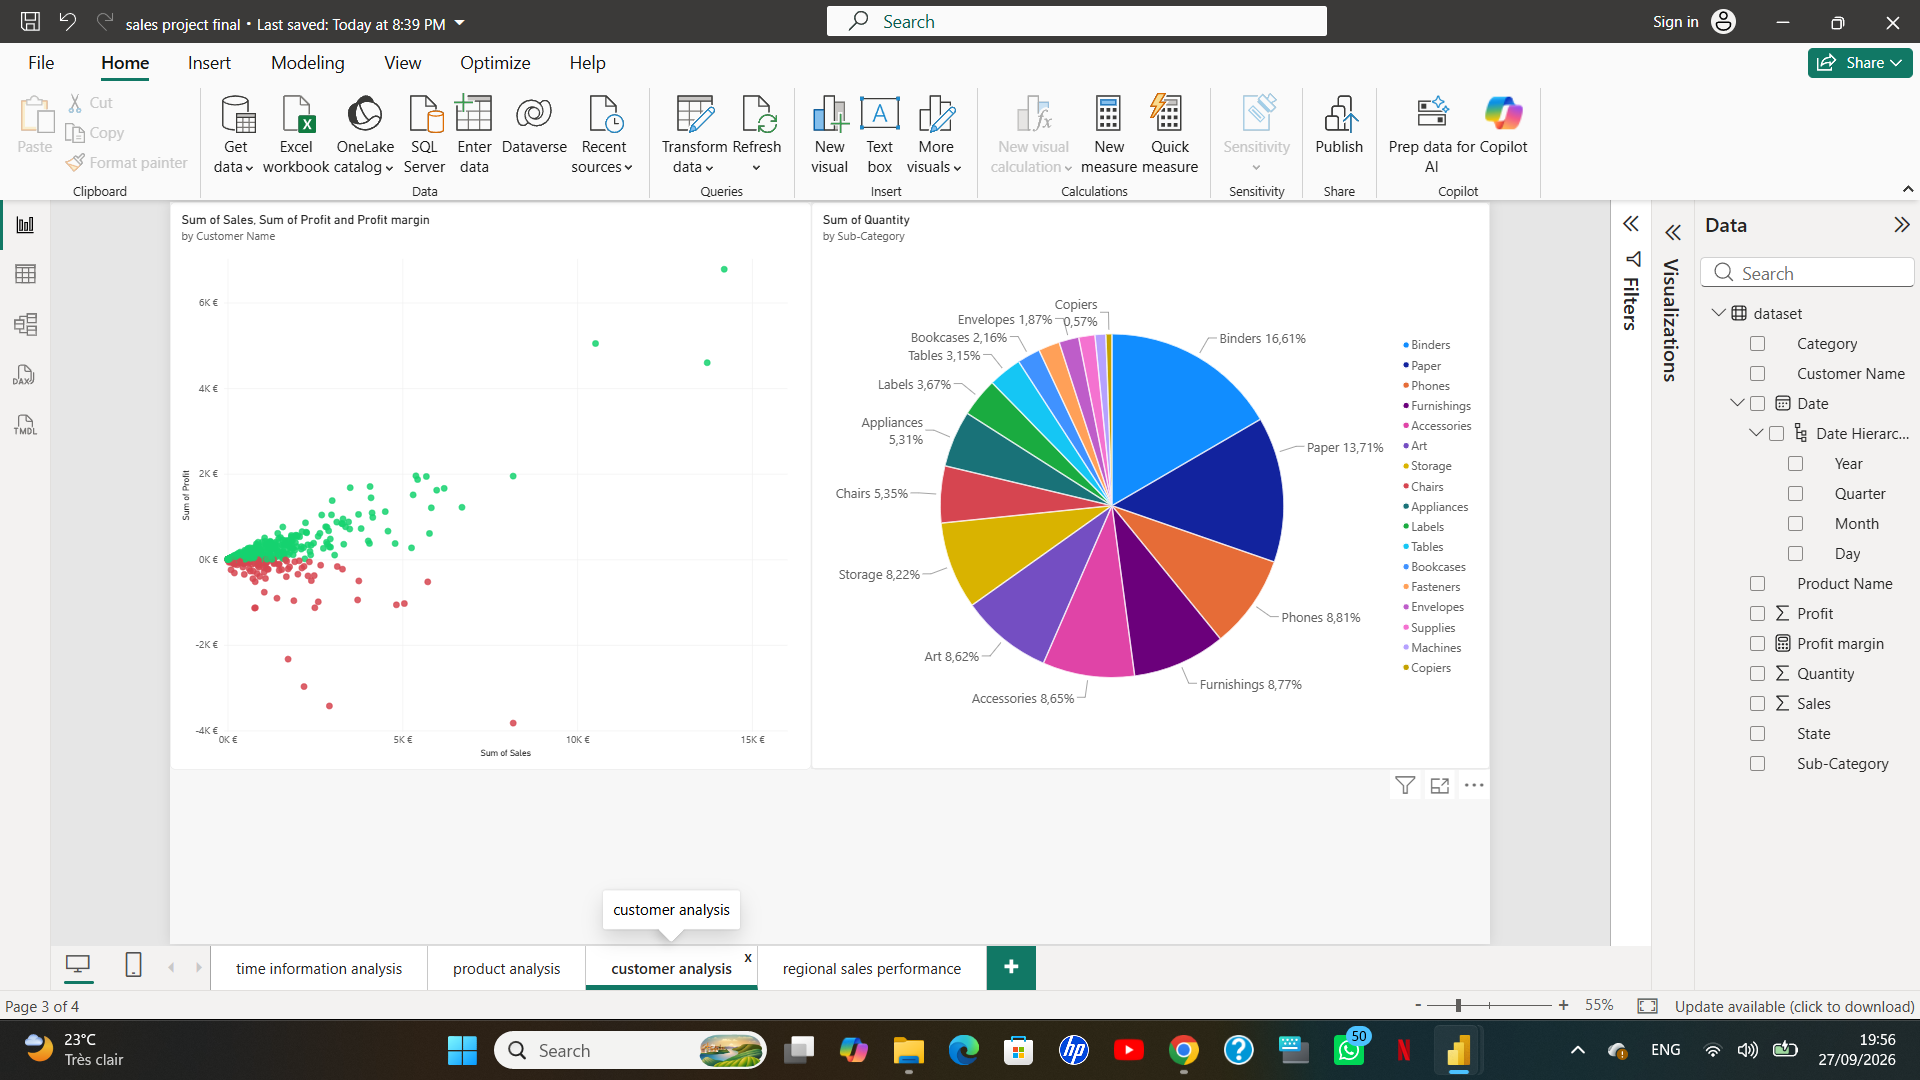

This screenshot's page, from the dashboard's own definition file:
{"tool":"powerbi","page":{"name":"customer analysis","canvas":[1920,1080],"ordinal":2},"visuals":[{"type":"scatterChart","fields":{"Category":["dataset.Customer Name"],"X":["Sum(dataset.Sales)"],"Y":["Sum(dataset.Profit)"]},"box":[0,0,932.7,825.5],"z":1},{"type":"pieChart","fields":{"Category":["dataset.Sub-Category"],"Y":["Sum(dataset.Quantity)"]},"box":[932.7,0,987.3,825.5],"z":2}]}

Visuals, with their boxes on the page's 1920x1080 design canvas (x1, y1, x2, y2). These are canvas units, not pixel positions in the 1920x1080 screenshot, which may show the page scaled, cropped or inside an application window:
scatterChart - dataset.Customer Name x Sum(dataset.Sales): Rect(0, 0, 933, 826)
pieChart - dataset.Sub-Category x Sum(dataset.Quantity): Rect(933, 0, 1920, 826)
